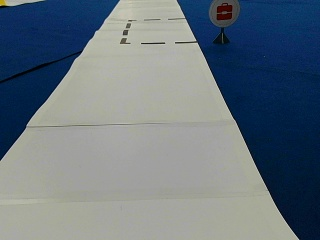company: (208, 0, 240, 26)
